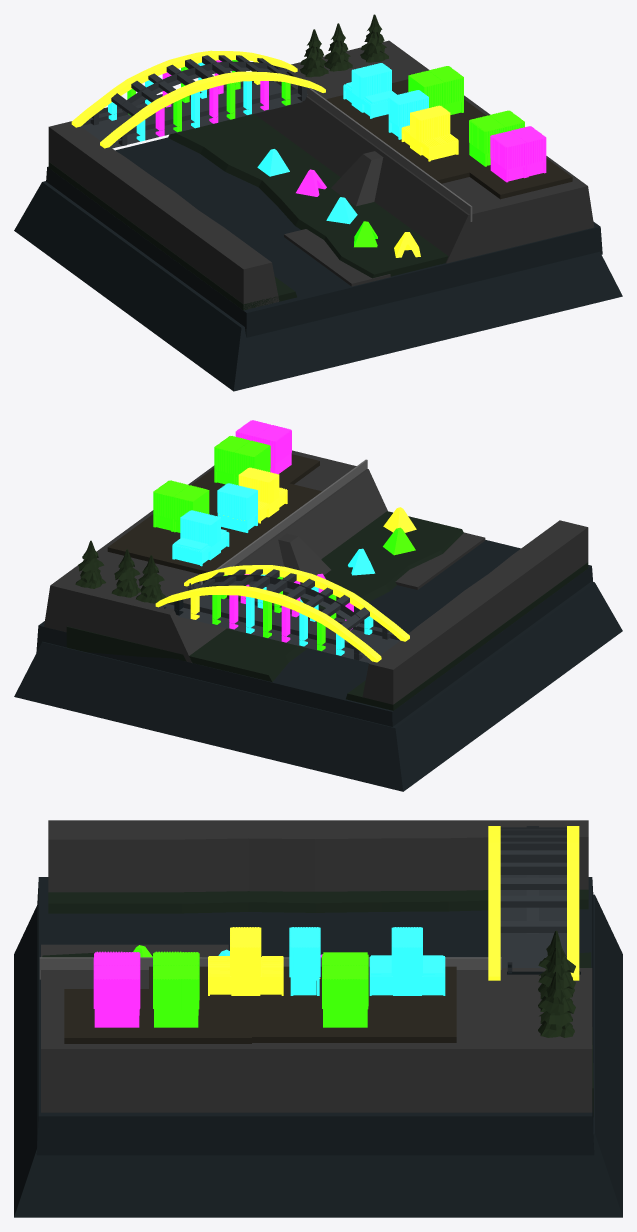
The model's file is night.glb.
The picture shows the model from 3 angles, top to bottom: view 1: azimuth 30°, elevation 25°; view 2: azimuth 150°, elevation 25°; view 3: azimuth 270°, elevation 25°; orthographic projection. The views are drawn at different scales.
Visible parts, largest first — view 1: かわまち3D_Town_盛岡_for_テクスチャ.457, かわまち3D_Town_盛岡_for_テクスチャ.458, かわまち3D_Town_盛岡_for_テクスチャ.002, かわまち3D_Town_盛岡_for_テクスチャ.014, かわまち3D_Town_盛岡_for_テクスチャ.004, かわまち3D_Town_盛岡_for_テクスチャ.006, かわまち3D_Town_盛岡_for_テクスチャ.271, かわまち3D_Town_盛岡_for_テクスチャ.022, かわまち3D_Town_盛岡_for_テクスチャ.020, かわまち3D_Town_盛岡_for_テクスチャ.059, かわまち3D_Town_盛岡_for_テクスチャ.322, かわまち3D_Town_盛岡_for_テクスチャ.045 (+15 smaller); view 2: かわまち3D_Town_盛岡_for_テクスチャ.457, かわまち3D_Town_盛岡_for_テクスチャ.002, かわまち3D_Town_盛岡_for_テクスチャ.458, かわまち3D_Town_盛岡_for_テクスチャ.014, かわまち3D_Town_盛岡_for_テクスチャ.004, かわまち3D_Town_盛岡_for_テクスチャ.006, かわまち3D_Town_盛岡_for_テクスチャ.022, かわまち3D_Town_盛岡_for_テクスチャ.045, かわまち3D_Town_盛岡_for_テクスチャ.322, かわまち3D_Town_盛岡_for_テクスチャ.367, かわまち3D_Town_盛岡_for_テクスチャ.020, かわまち3D_Town_盛岡_for_テクスチャ.007 (+14 smaller); view 3: かわまち3D_Town_盛岡_for_テクスチャ.457, かわまち3D_Town_盛岡_for_テクスチャ.002, かわまち3D_Town_盛岡_for_テクスチャ.458, かわまち3D_Town_盛岡_for_テクスチャ.014, かわまち3D_Town_盛岡_for_テクスチャ.006, かわまち3D_Town_盛岡_for_テクスチャ.003, かわまち3D_Town_盛岡_for_テクスチャ.005, かわまち3D_Town_盛岡_for_テクスチャ.322, かわまち3D_Town_盛岡_for_テクスチャ.059, かわまち3D_Town_盛岡_for_テクスチャ.271, かわまち3D_Town_盛岡_for_テクスチャ.007, かわまち3D_Town_盛岡_for_テクスチャ.367 (+16 smaller).
Boxes of the visible parts, left/top/right/bottom form: かわまち3D_Town_盛岡_for_テクスチャ.457: left=14, top=181, right=622, bottom=391; かわまち3D_Town_盛岡_for_テクスチャ.458: left=46, top=137, right=602, bottom=337; かわまち3D_Town_盛岡_for_テクスチャ.002: left=254, top=40, right=594, bottom=263; かわまち3D_Town_盛岡_for_テクスチャ.014: left=48, top=121, right=279, bottom=309; かわまち3D_Town_盛岡_for_テクスチャ.004: left=168, top=114, right=448, bottom=278; かわまち3D_Town_盛岡_for_テクスチャ.006: left=326, top=79, right=490, bottom=183; かわまち3D_Town_盛岡_for_テクスチャ.271: left=490, top=126, right=546, bottom=182; かわまち3D_Town_盛岡_for_テクスチャ.022: left=81, top=81, right=302, bottom=148; かわまち3D_Town_盛岡_for_テクスチャ.020: left=100, top=71, right=325, bottom=148; かわまち3D_Town_盛岡_for_テクスチャ.059: left=401, top=105, right=458, bottom=161; かわまち3D_Town_盛岡_for_テクスチャ.322: left=343, top=63, right=396, bottom=118; かわまち3D_Town_盛岡_for_テクスチャ.045: left=71, top=50, right=297, bottom=127; かわまち3D_Town_盛岡_for_テクスチャ.457: left=14, top=581, right=622, bottom=791; かわまち3D_Town_盛岡_for_テクスチャ.002: left=44, top=450, right=387, bottom=662; かわまち3D_Town_盛岡_for_テクスチャ.458: left=36, top=540, right=592, bottom=726; かわまち3D_Town_盛岡_for_テクスチャ.014: left=362, top=520, right=588, bottom=704; かわまち3D_Town_盛岡_for_テクスチャ.004: left=66, top=511, right=463, bottom=682; かわまち3D_Town_盛岡_for_テクスチャ.006: left=107, top=482, right=321, bottom=574; かわまち3D_Town_盛岡_for_テクスチャ.022: left=178, top=595, right=399, bottom=663; かわまち3D_Town_盛岡_for_テクスチャ.045: left=155, top=585, right=381, bottom=662; かわまち3D_Town_盛岡_for_テクスチャ.322: left=172, top=510, right=229, bottom=566; かわまち3D_Town_盛岡_for_テクスチャ.367: left=153, top=480, right=209, bottom=532; かわまち3D_Town_盛岡_for_テクスチャ.020: left=184, top=565, right=409, bottom=641; かわまち3D_Town_盛岡_for_テクスチャ.007: left=214, top=436, right=270, bottom=485; かわまち3D_Town_盛岡_for_テクスチャ.457: left=14, top=894, right=622, bottom=1217; かわまち3D_Town_盛岡_for_テクスチャ.002: left=41, top=968, right=592, bottom=1112; かわまち3D_Town_盛岡_for_テクスチャ.458: left=36, top=877, right=594, bottom=1155; かわまち3D_Town_盛岡_for_テクスチャ.014: left=48, top=820, right=588, bottom=892; かわまち3D_Town_盛岡_for_テクスチャ.006: left=149, top=966, right=456, bottom=1042; かわまち3D_Town_盛岡_for_テクスチャ.003: left=48, top=889, right=588, bottom=913; かわまち3D_Town_盛岡_for_テクスチャ.005: left=64, top=989, right=251, bottom=1043; かわまち3D_Town_盛岡_for_テクスチャ.322: left=369, top=927, right=445, bottom=995; かわまち3D_Town_盛岡_for_テクスチャ.059: left=208, top=927, right=283, bottom=995; かわまち3D_Town_盛岡_for_テクスチャ.271: left=93, top=951, right=140, bottom=1027; かわまち3D_Town_盛岡_for_テクスチャ.007: left=153, top=951, right=199, bottom=1027; かわまち3D_Town_盛岡_for_テクスチャ.367: left=322, top=952, right=368, bottom=1027.
Size of the model in its own units: 6.64 by 2.47 by 6.49.
